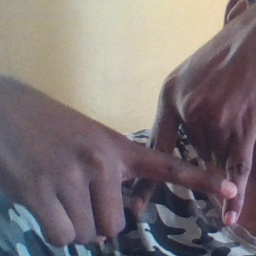H: (123, 98, 256, 239)
